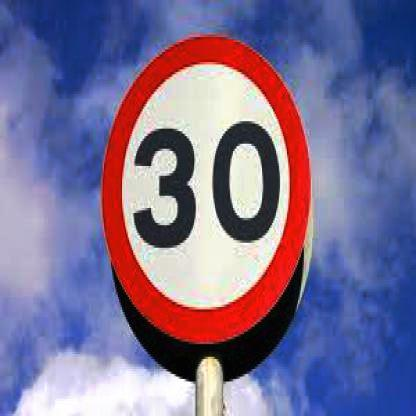Speed Limit -30-: (96, 29, 314, 356)
